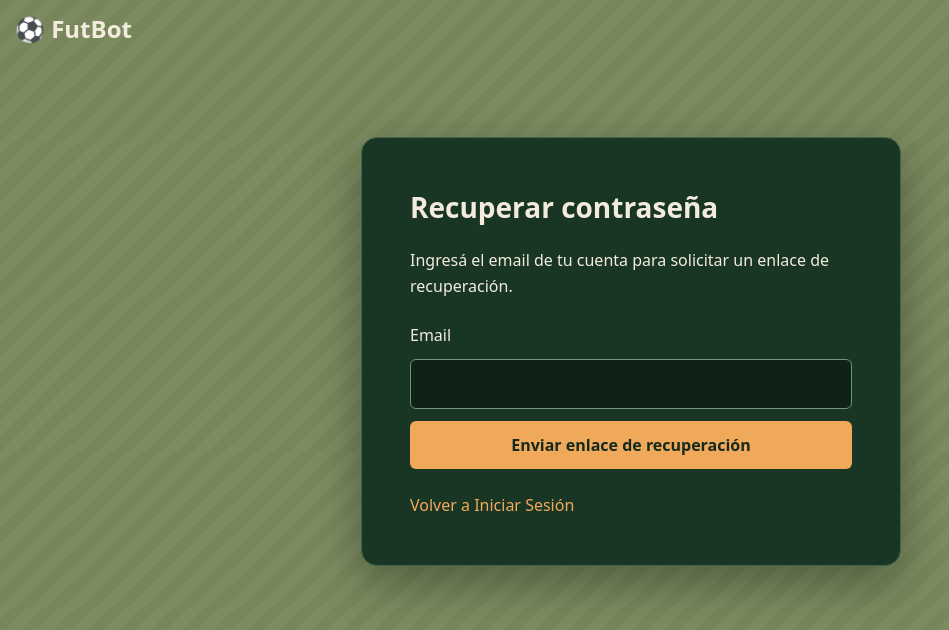
Test case: Solicitud de recuperación › muestra la misma confirmación genérica para registered@example.com
Type "registered@example.com" into the field labelled "Email".
click(631, 384); type("registered@example.com")  # box [410, 359, 852, 409]
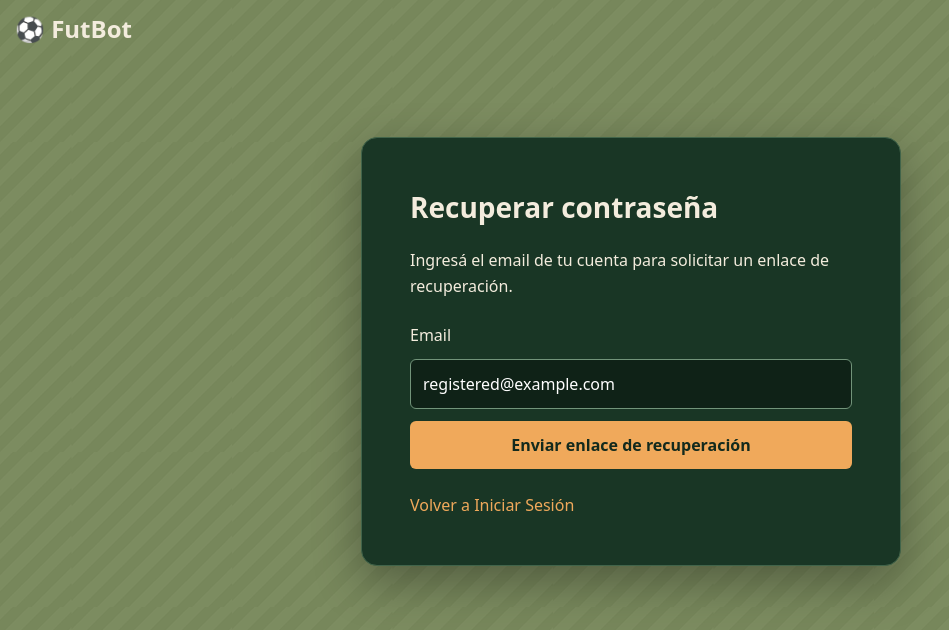
Click the button "Enviar enlace de recuperación".
click(631, 445)  # box [410, 421, 852, 469]
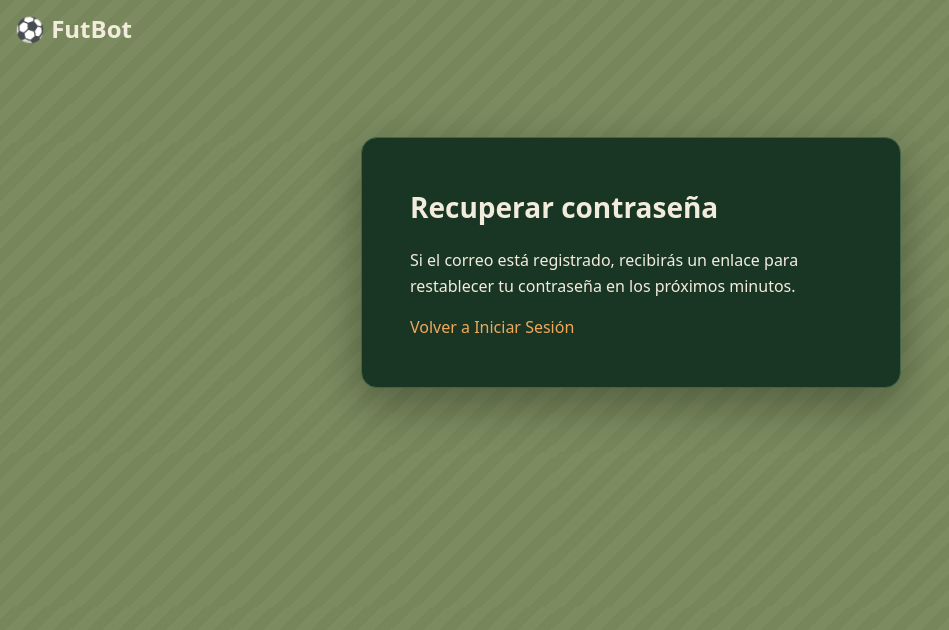
Expected: the message shows "Si el correo está registrado, recibirás un enlace para restablecer tu contraseña en los próximos minutos.", [410, 249, 798, 297]
Expected: the text labelled "email" is gone
